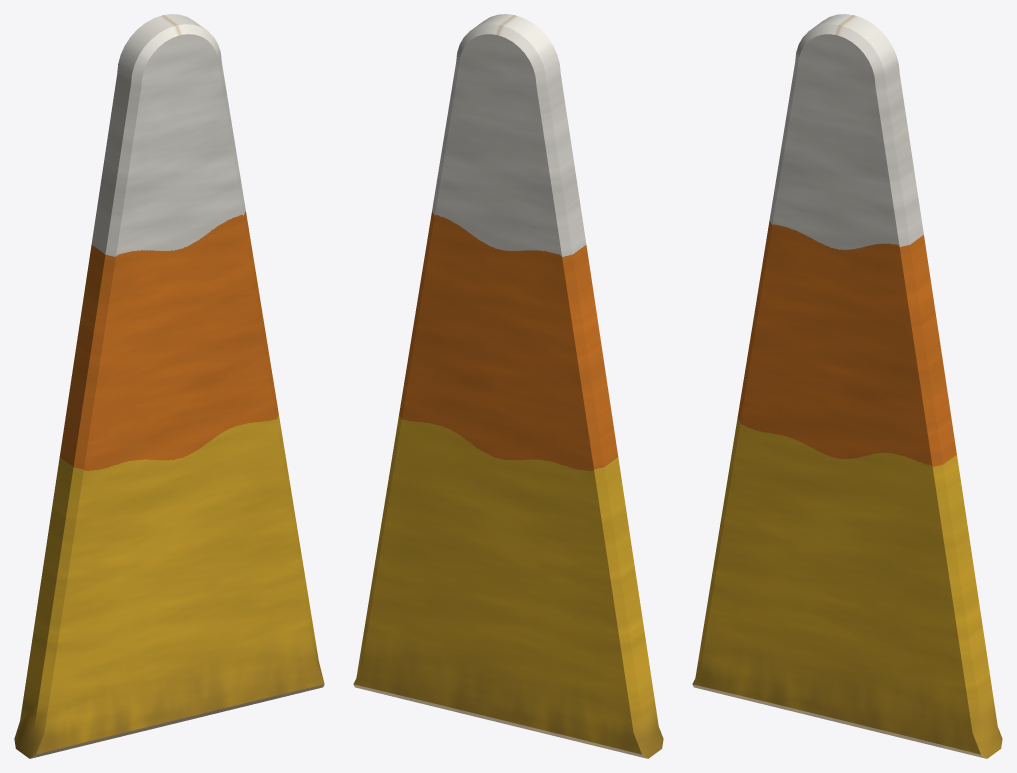
The model's file is candy-corn.glb.
The picture shows the model from 3 angles, left to right: view 1: azimuth 30°, elevation 25°; view 2: azimuth 150°, elevation 25°; view 3: azimuth 330°, elevation 25°; orthographic projection.
Visible parts, largest first — view 1: candy-corn; view 2: candy-corn; view 3: candy-corn.
Part boxes in pixels (x1,y1,x2,y2): candy-corn: (14, 14, 324, 758); candy-corn: (353, 14, 663, 758); candy-corn: (692, 14, 1002, 758).
Size of the model in its own units: 1.1 by 2.5 by 0.14.
Materials: 1 (1 with a texture image).
